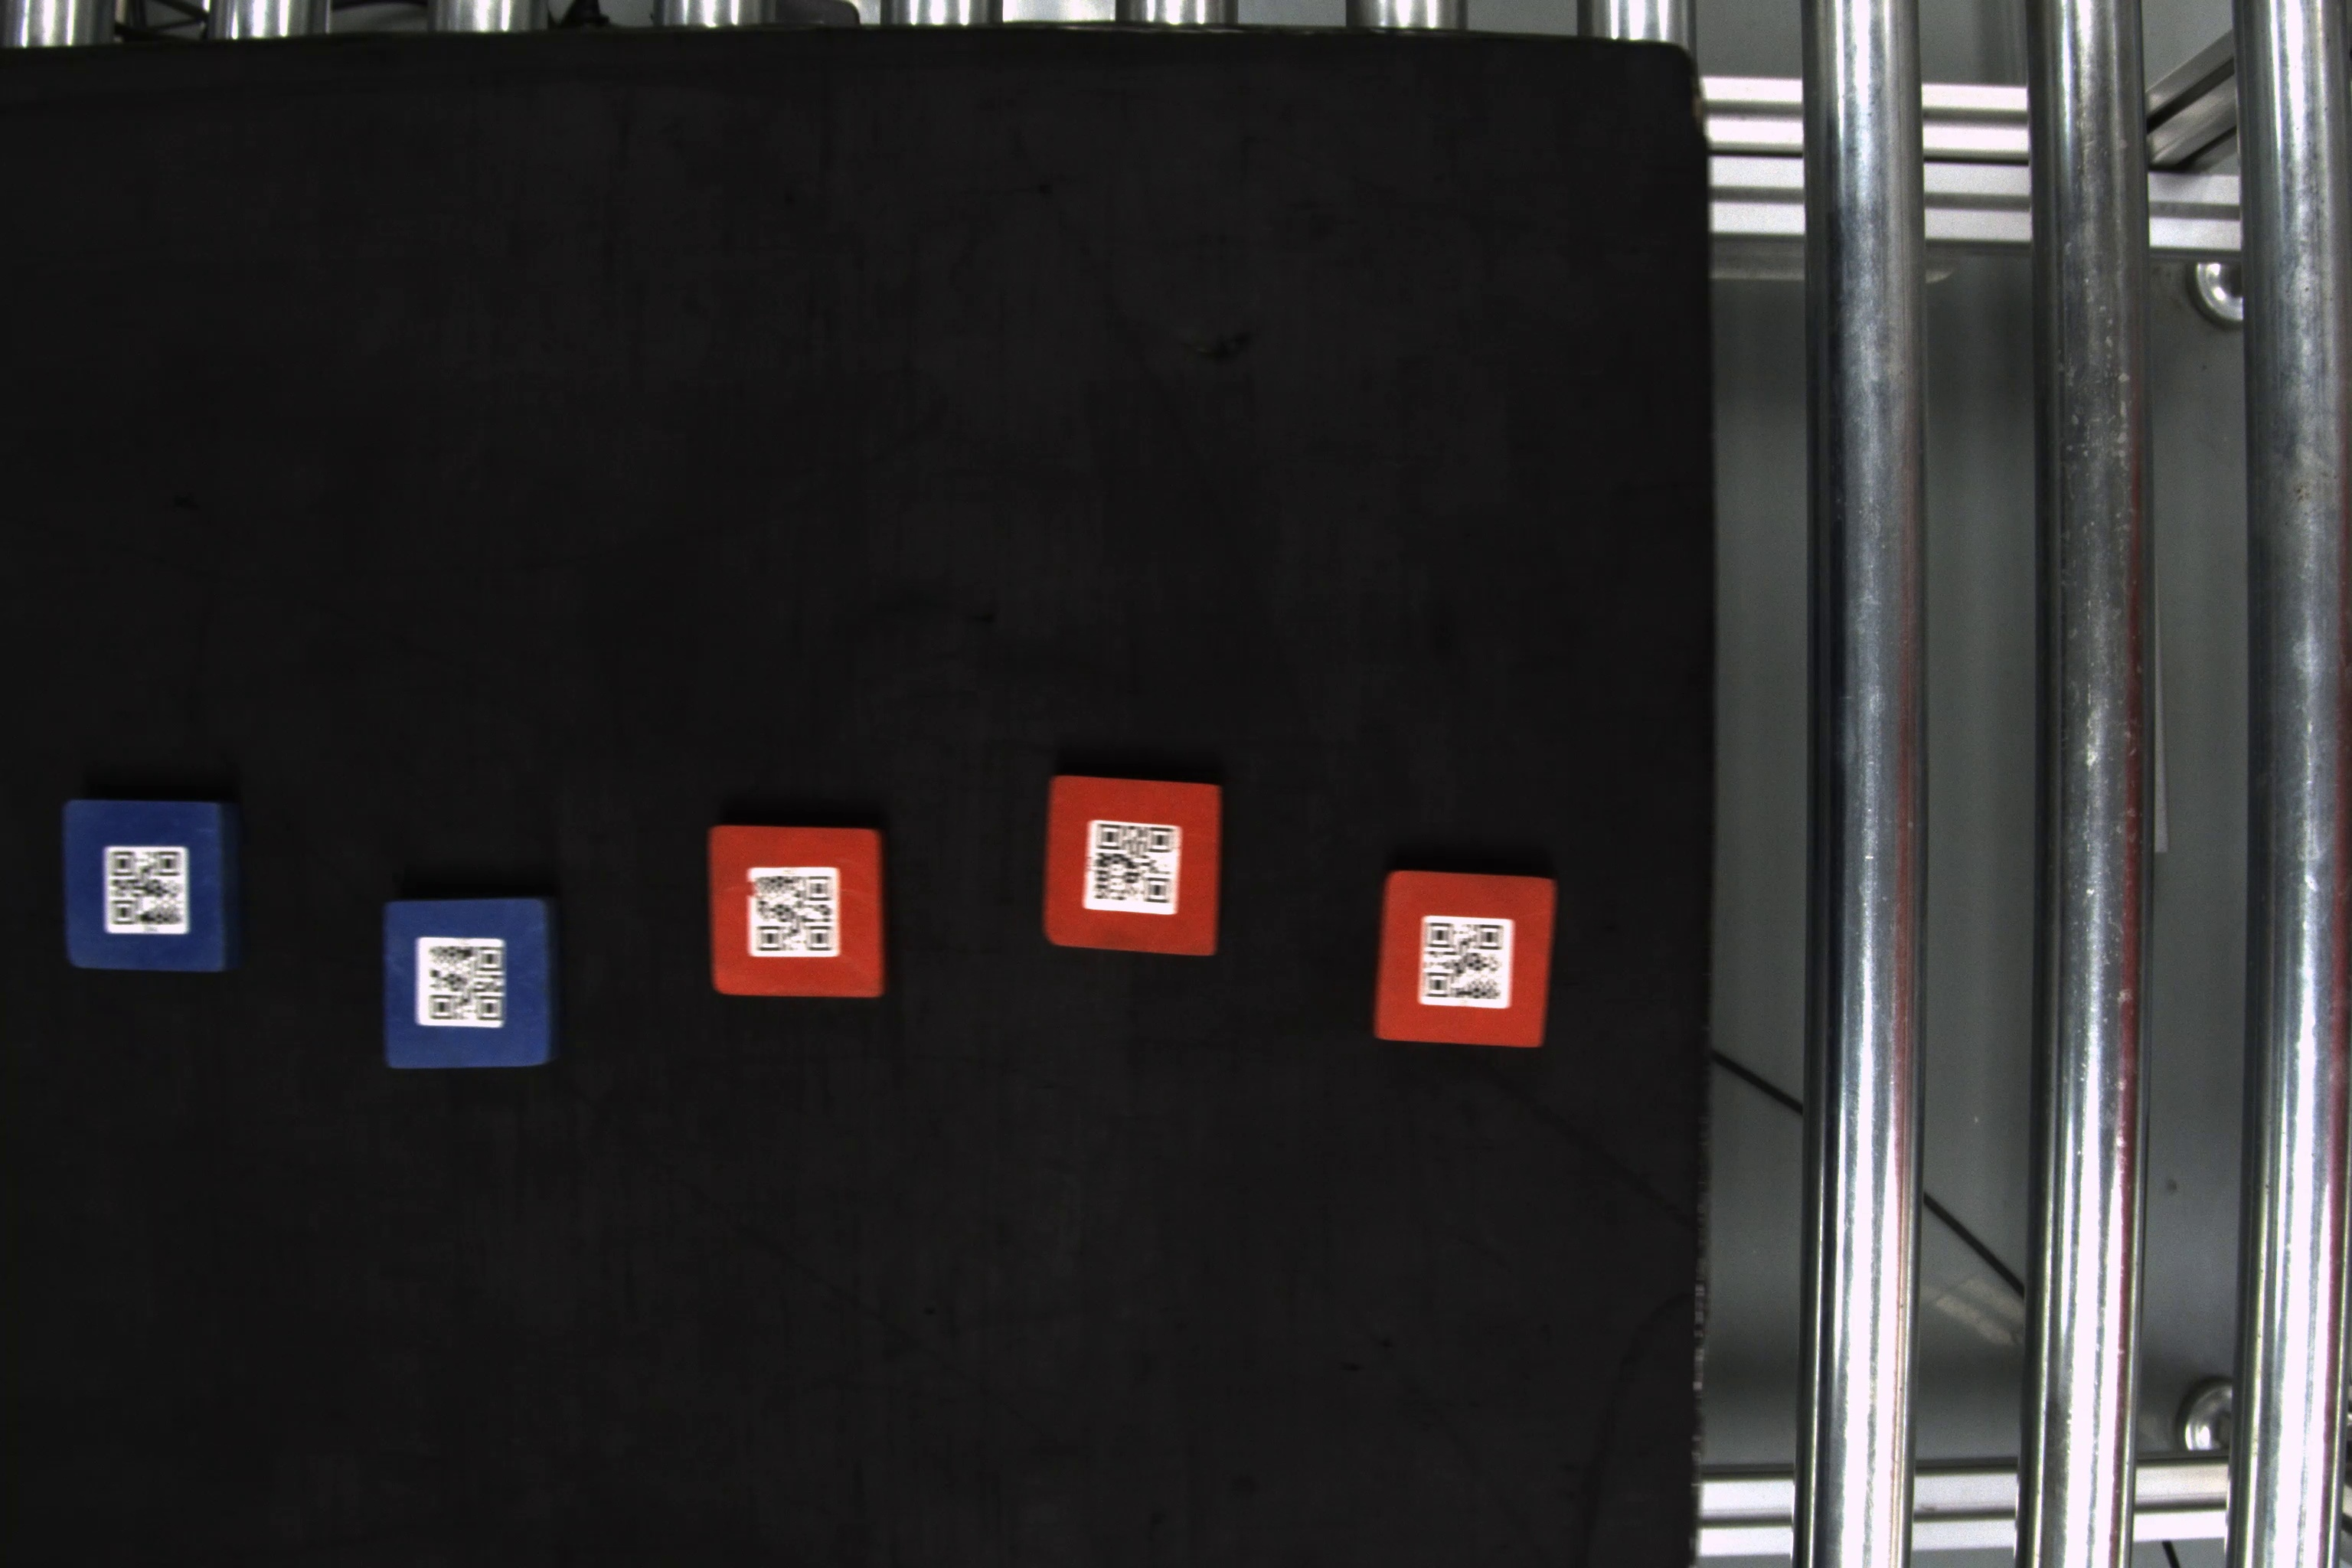wood: (1370, 857, 1559, 1048), (1039, 772, 1230, 961), (705, 819, 898, 1004), (56, 794, 241, 976), (378, 899, 560, 1078)
